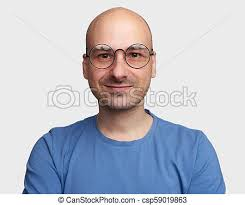Glasses: (80, 42, 154, 74)
